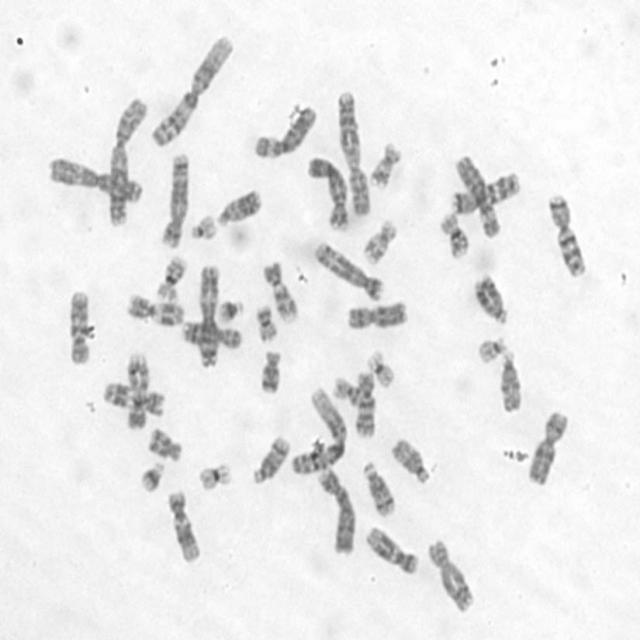A1: (150, 33, 238, 149), (289, 386, 348, 478)
A2: (106, 95, 148, 233), (336, 90, 374, 220)
A3: (48, 155, 144, 206), (197, 263, 220, 372)
B4: (318, 464, 357, 558), (306, 154, 351, 232)
B5: (313, 240, 384, 298), (159, 152, 189, 249)
C10: (64, 286, 96, 370), (353, 370, 377, 440)
C11: (124, 292, 186, 328), (105, 382, 166, 417)
C12: (364, 524, 421, 578), (167, 490, 201, 565)
C6: (454, 153, 504, 239), (252, 102, 317, 162)
C7: (546, 191, 590, 280), (448, 168, 522, 217)
C8: (429, 536, 474, 614), (180, 318, 244, 350)
C9: (262, 259, 303, 325), (124, 350, 151, 430)
D13: (471, 270, 511, 326), (216, 187, 264, 231)
D14: (362, 458, 399, 520), (252, 433, 292, 487)
D15: (391, 434, 434, 486), (498, 348, 522, 414)
E16: (154, 254, 190, 300), (439, 210, 470, 258)
E17: (360, 215, 399, 267), (370, 142, 403, 190)
E18: (148, 426, 182, 466), (259, 349, 285, 397)
F19: (365, 348, 397, 391), (196, 463, 234, 492)
F20: (253, 303, 278, 346), (332, 373, 362, 408)
G21: (139, 460, 167, 492), (216, 299, 245, 327)
G22: (476, 336, 508, 366), (190, 212, 217, 241)
X: (528, 410, 570, 486), (346, 301, 410, 331)
